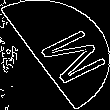M_SW: (14, 22, 96, 88)
